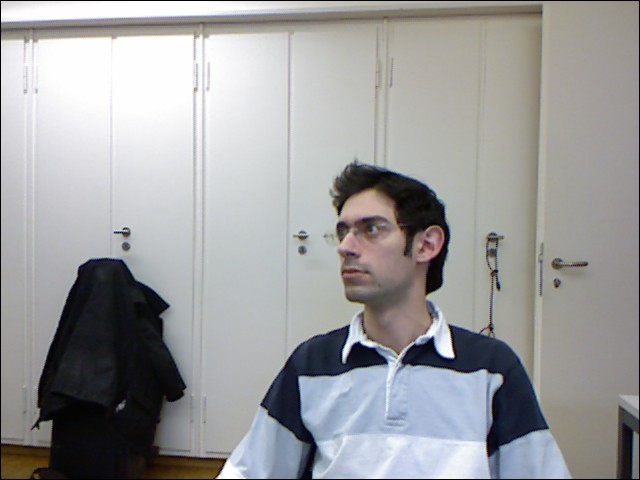deflection: (281, 180, 528, 479)
